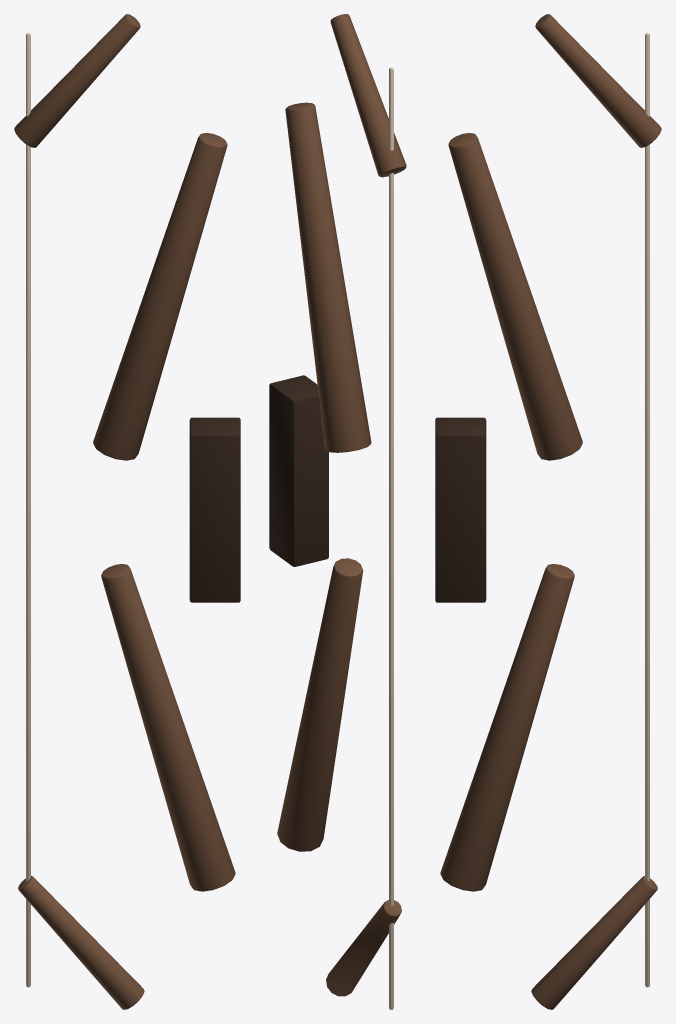
Rendered from weapon_short_bow.glb.
3 renders of one model, left to right at view 1: azimuth 90°, elevation 25°; view 2: azimuth 210°, elevation 25°; view 3: azimuth 270°, elevation 25°, orthographic.
Parts seen in each view (by area): view 1: ShortBow; view 2: ShortBow; view 3: ShortBow.
Part boxes in pixels (bbox=[...]): ShortBow: bbox=[14, 14, 240, 1009]; ShortBow: bbox=[269, 14, 406, 1009]; ShortBow: bbox=[435, 14, 661, 1009].
Size of the model in its own units: 0.0559 by 1.29 by 0.2668.
